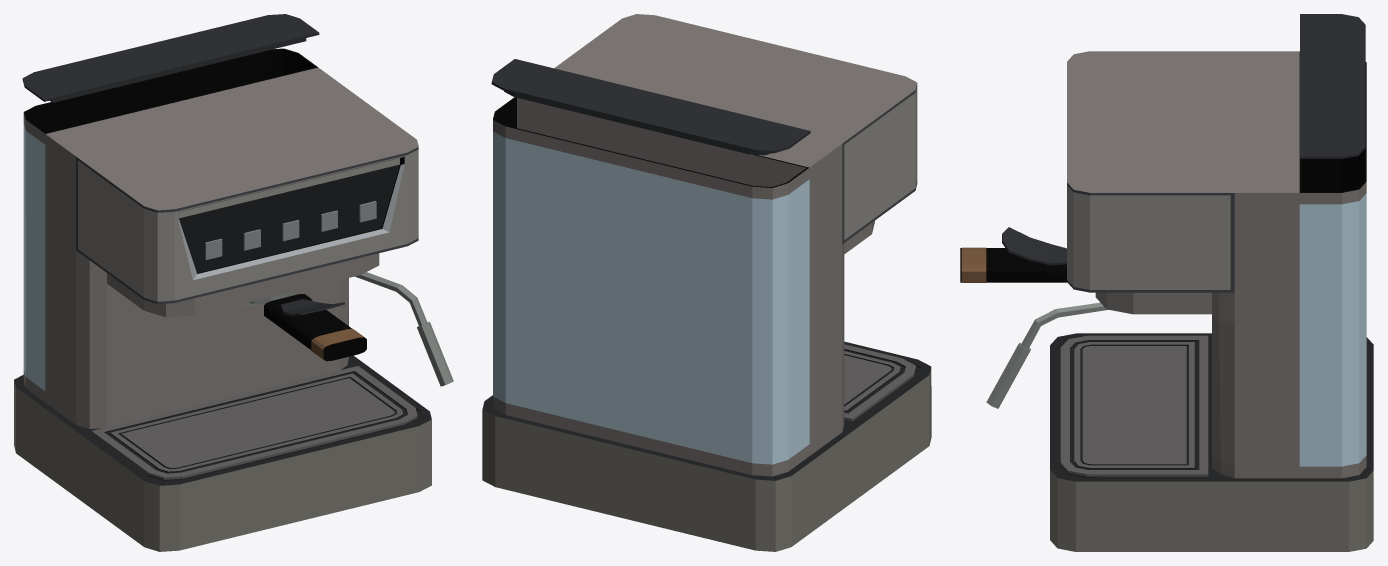
The model's file is coffeemaker_01_A.gltf.
3 views of the same model, side by side, from view 1: azimuth 30°, elevation 25°; view 2: azimuth 150°, elevation 25°; view 3: azimuth 270°, elevation 25° (orthographic). The views are drawn at different scales.
Parts seen in each view (by area): view 1: coffeemaker_01_A, Capforcoffemaker_01_A, leverarmforcoffemaker_01_A; view 2: coffeemaker_01_A, Capforcoffemaker_01_A; view 3: coffeemaker_01_A, Capforcoffemaker_01_A, leverarmforcoffemaker_01_A.
Boxes of the visible parts, x1,y1,x2,y2 form: coffeemaker_01_A: (14,48,453,551); Capforcoffemaker_01_A: (22,14,319,102); leverarmforcoffemaker_01_A: (240,291,366,361); coffeemaker_01_A: (482,14,931,551); Capforcoffemaker_01_A: (491,59,810,155); coffeemaker_01_A: (986,51,1373,551); Capforcoffemaker_01_A: (1300,14,1365,158); leverarmforcoffemaker_01_A: (960,227,1066,282).
Size of the model in its own units: 0.26 by 0.3211 by 0.3066.
Materials: 1 (1 with a texture image).
